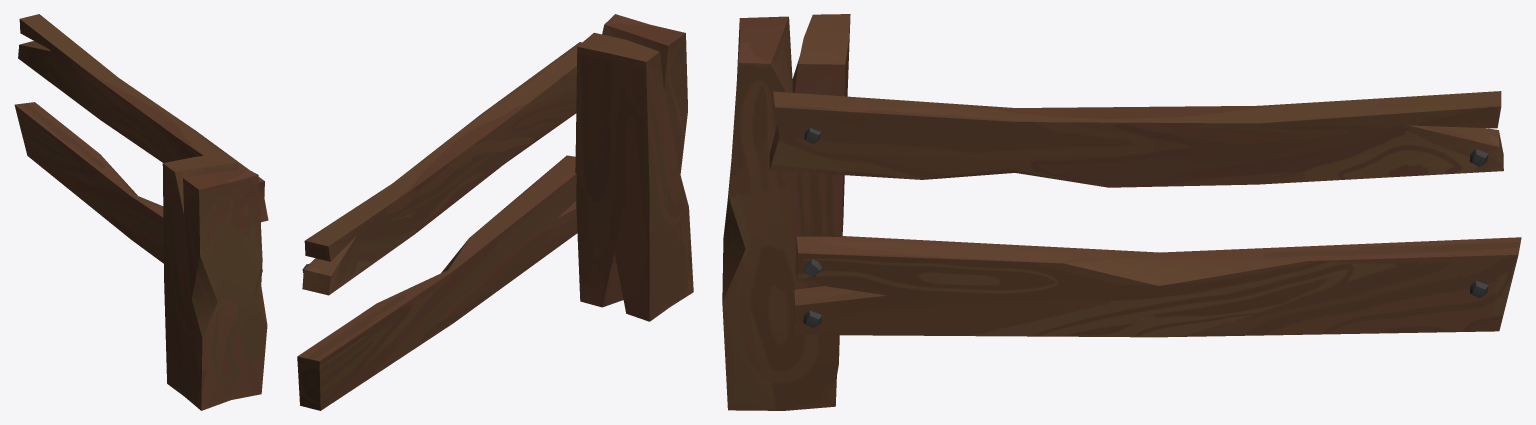
The model's file is Fence2.fbx.
3 renders of one model, left to right at view 1: azimuth 30°, elevation 25°; view 2: azimuth 150°, elevation 25°; view 3: azimuth 270°, elevation 25°, orthographic. The views are drawn at different scales.
Parts seen in each view (by area): view 1: Słupek.002; view 2: Słupek.002; view 3: Słupek.002.
Boxes of the visible parts, x1,y1,x2,y2 form: Słupek.002: (14,14,268,410); Słupek.002: (297,14,693,410); Słupek.002: (722,14,1521,410).
Bounding box in the file's own units: 37.58 × 90.05 × 186.
1 material, 1 textured.
